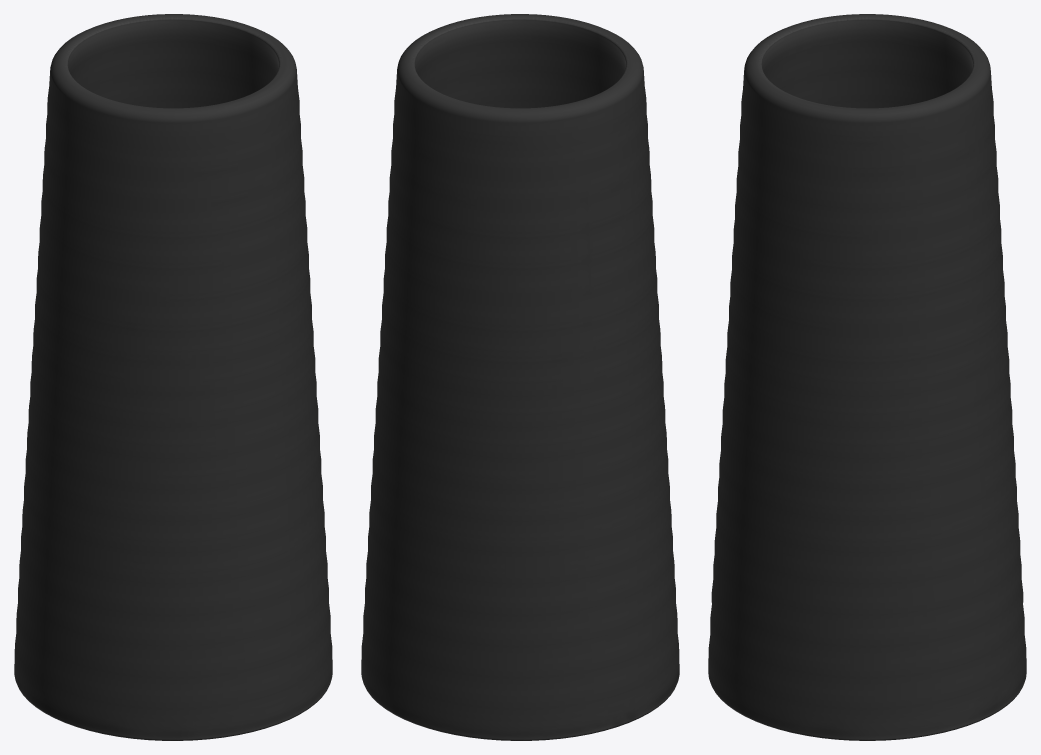
The model's file is abo_B07QD6ZV9Q.glb.
The picture shows the model from 3 angles, left to right: view 1: azimuth 30°, elevation 25°; view 2: azimuth 150°, elevation 25°; view 3: azimuth 270°, elevation 25°; orthographic projection.
Parts seen in each view (by area): view 1: RootNode; view 2: RootNode; view 3: RootNode.
Boxes of the visible parts, x1,y1,x2,y2 form: RootNode: (14, 14, 332, 740); RootNode: (361, 14, 679, 740); RootNode: (708, 14, 1026, 740).
Size of the model in its own units: 0.1364 by 0.2894 by 0.1364.
Materials: 1 (1 with a texture image).
